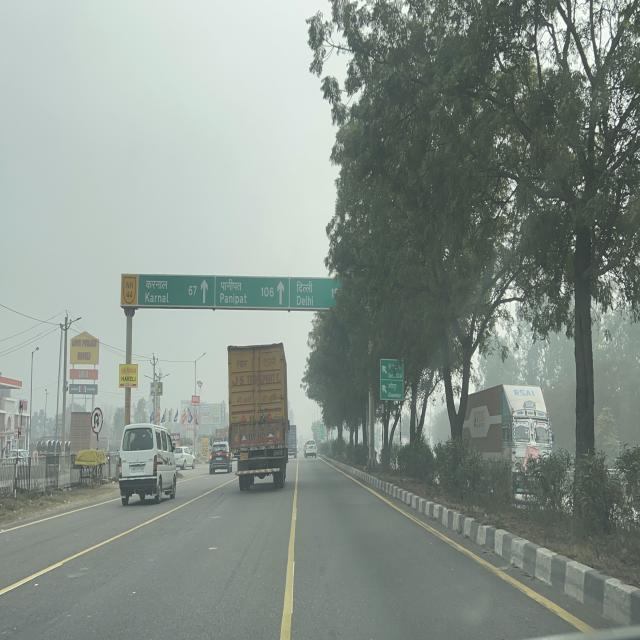GENERAL: (138, 274, 357, 312), (379, 358, 404, 402)
U_TURN_PROHIBITED: (90, 407, 103, 435)
